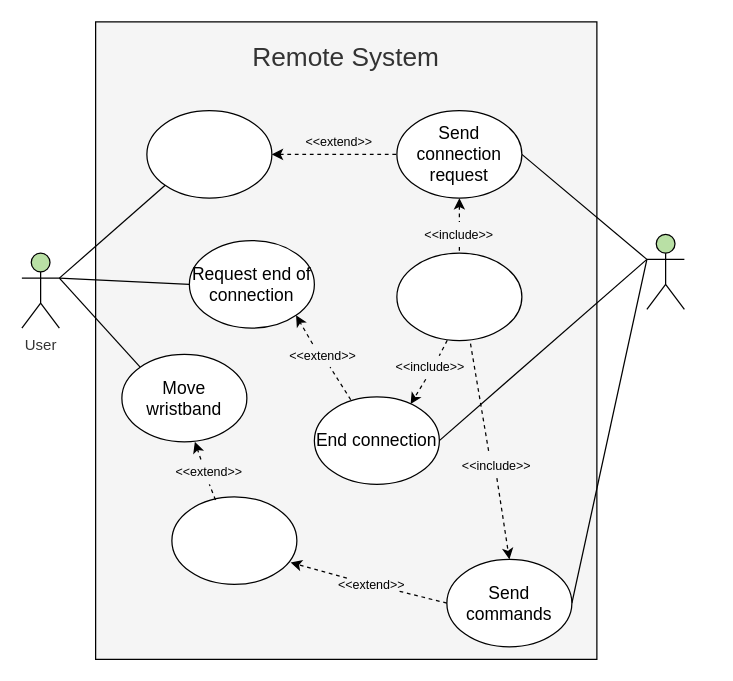
The diagram is 733 pixels wide and 681 high, and some of its shapes have lost their labels. The shapes that lost their labels are listed below. From the top down, each one's centre as x and y in pixels, then its label:
At point 209,153: "Request start of connection".
At point 665,271: "Local System".
At point 459,296: "Manage connection".
At point 234,540: "Interpret movement".
